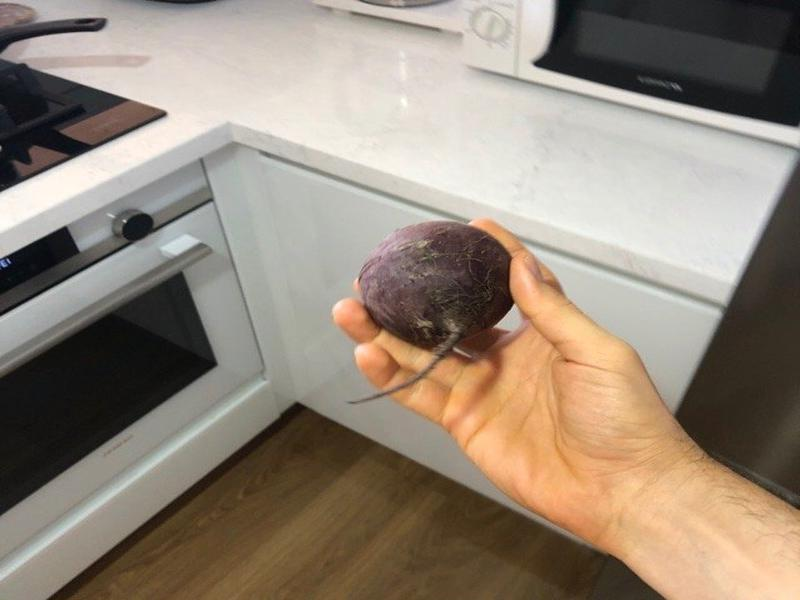Beet: (343, 220, 513, 405)
